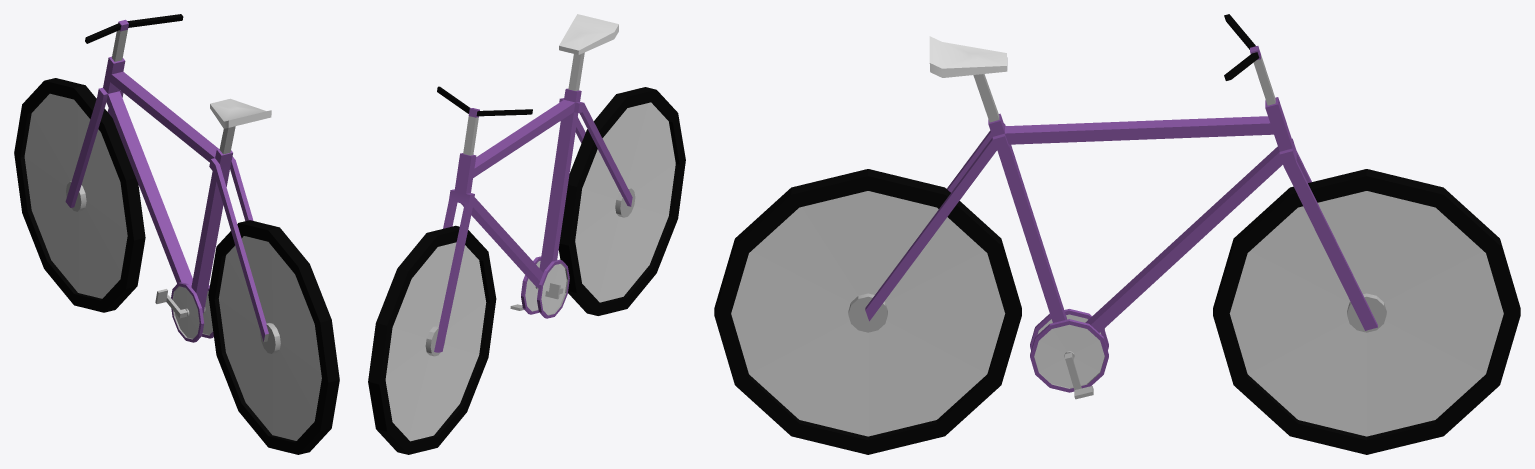
File: bike01.fbx
The picture shows the model from 3 angles, left to right: view 1: azimuth 30°, elevation 25°; view 2: azimuth 150°, elevation 25°; view 3: azimuth 270°, elevation 25°; orthographic projection. The views are drawn at different scales.
Visible parts, largest first — view 1: pCube2; view 2: pCube2; view 3: pCube2.
Boxes of the visible parts, x1,y1,x2,y2 form: pCube2: [14, 14, 339, 454]; pCube2: [368, 14, 685, 454]; pCube2: [714, 14, 1520, 454].
Bounding box in the file's own units: 1.74 × 5.53 × 9.92.
